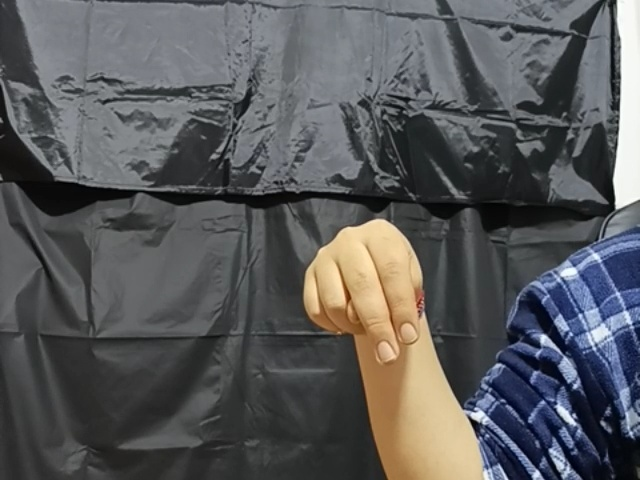N: (293, 216, 436, 371)
